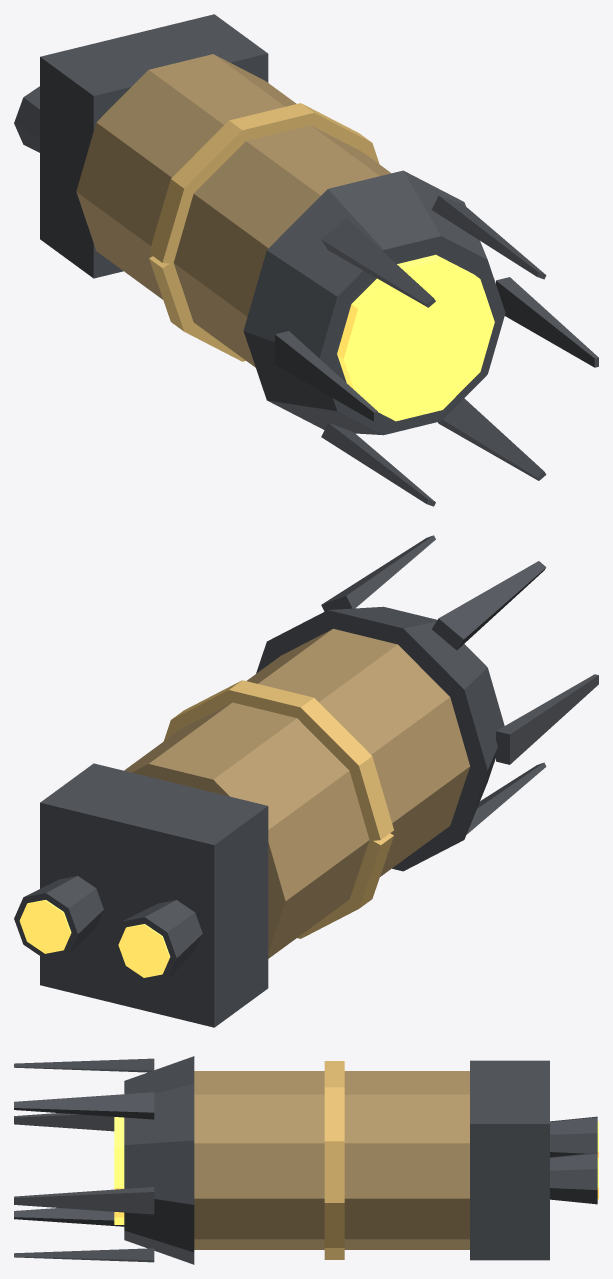
File: foundry_harvester.glb
The picture shows the model from 3 angles, top to bottom: view 1: azimuth 30°, elevation 25°; view 2: azimuth 150°, elevation 25°; view 3: azimuth 270°, elevation 25°; orthographic projection. The views are drawn at different scales.
Visible parts, largest first — view 1: harvester; view 2: harvester; view 3: harvester.
Part boxes in pixels (x1,y1,x2,y2): harvester: (14,14,598,506); harvester: (14,535,598,1027); harvester: (14,1056,598,1264).
Size of the model in its own units: 4.2 by 3.99 by 11.68.
